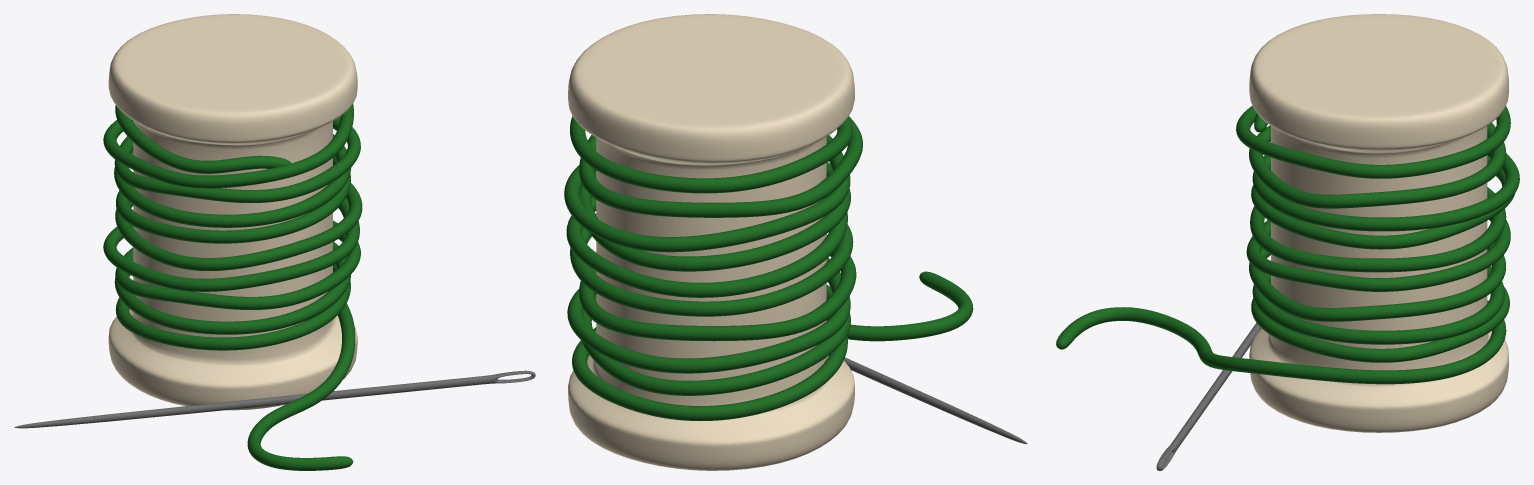
File: SpoolOfThread.fbx
The picture shows the model from 3 angles, left to right: view 1: azimuth 30°, elevation 25°; view 2: azimuth 150°, elevation 25°; view 3: azimuth 270°, elevation 25°; orthographic projection. The views are drawn at different scales.
Parts seen in each view (by area): view 1: pCube47; view 2: pCube47; view 3: pCube47.
Part boxes in pixels (x1,y1,x2,y2): pCube47: (14, 14, 535, 470); pCube47: (564, 14, 1027, 470); pCube47: (1056, 14, 1519, 470).
Bounding box in the file's own units: 3.87 × 2.48 × 3.29.
